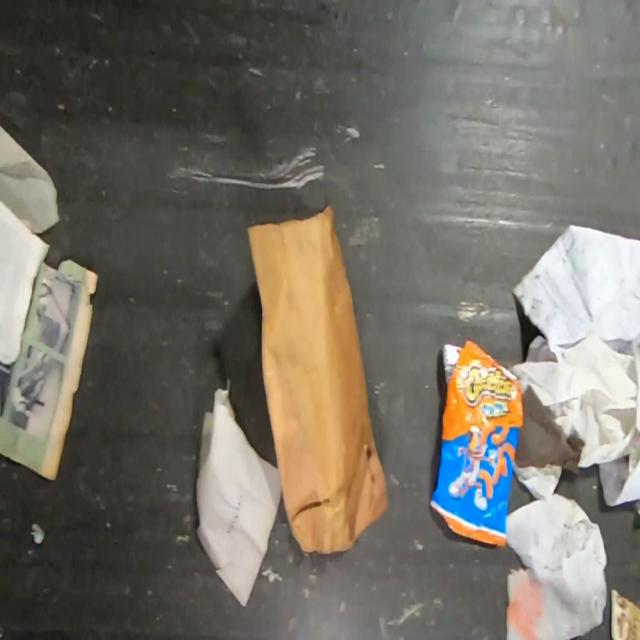cardboard: (244, 200, 389, 558)
soft_plastic: (427, 340, 525, 549)
